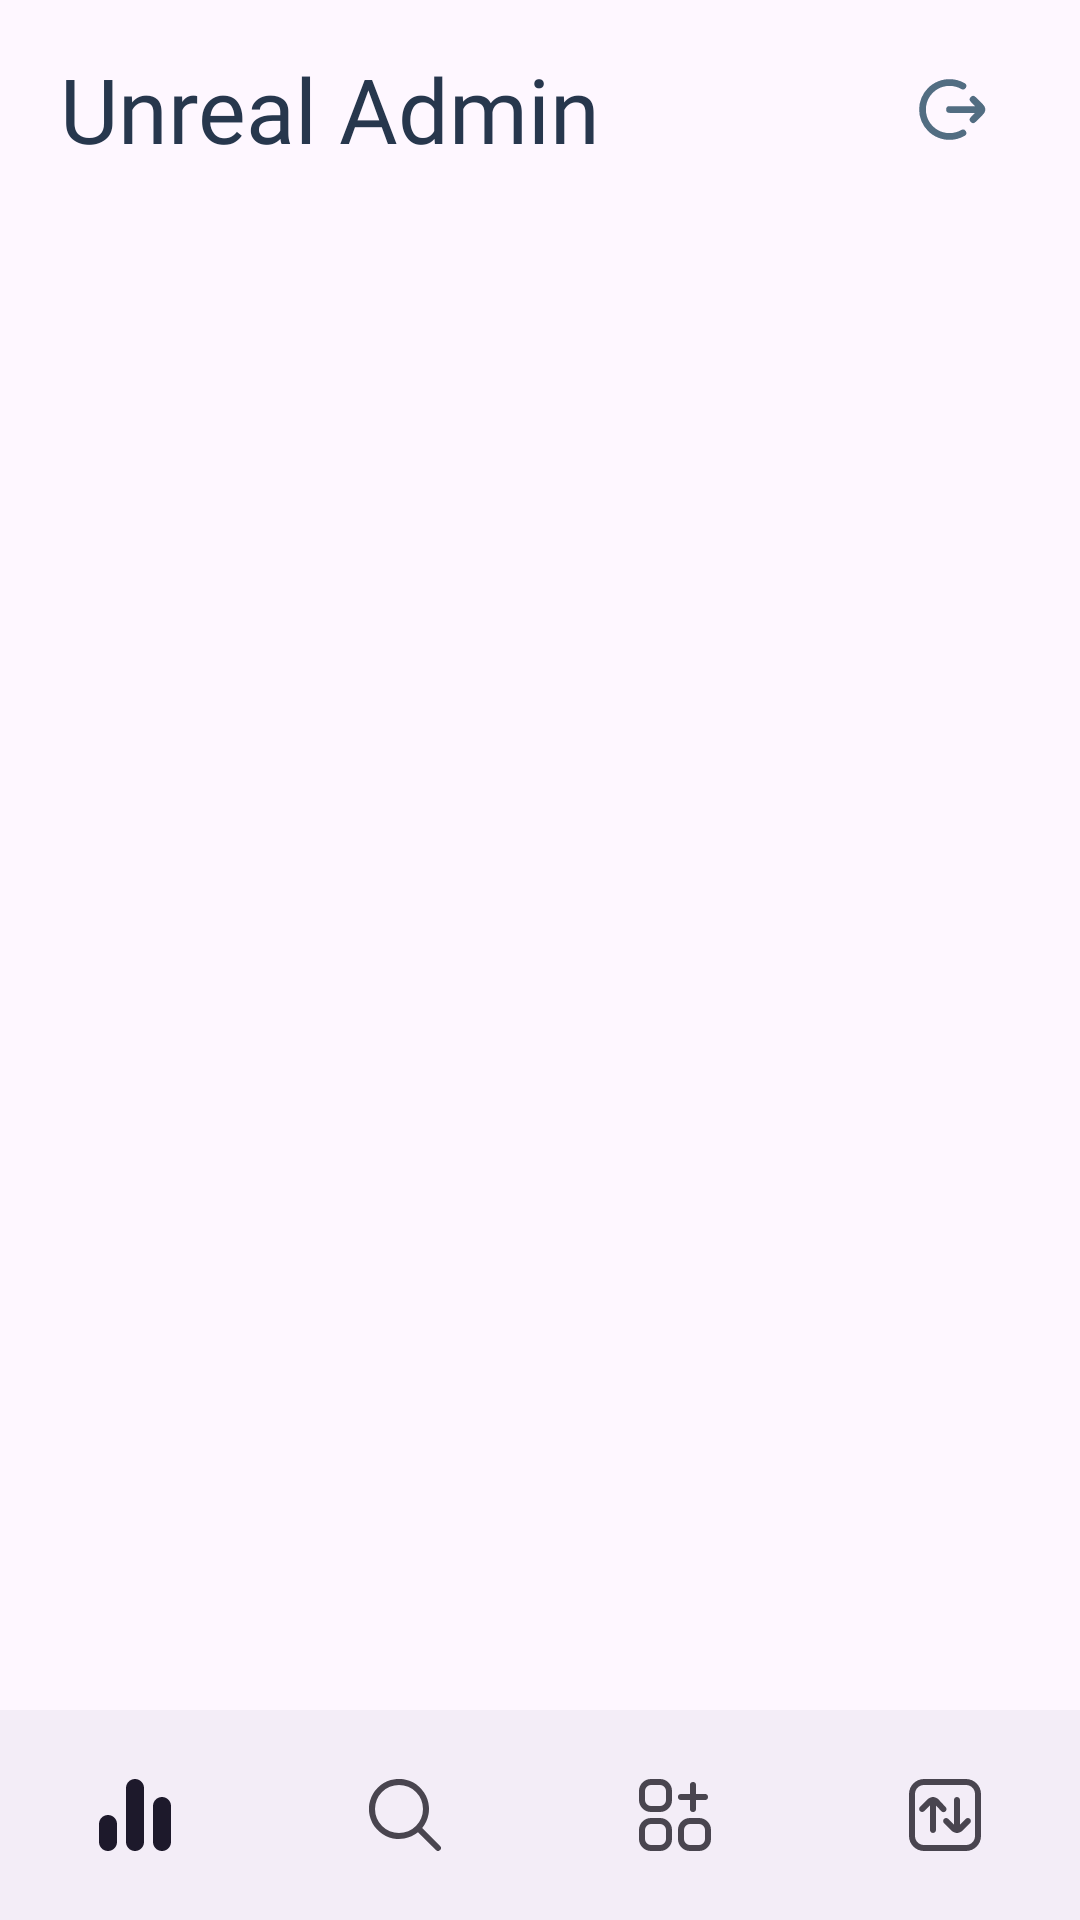

Where icons sit on this 1080px x 1920px app screen, as bbox=(x1, y1, x2, y2):
signout: bbox=(919, 79, 986, 140)
